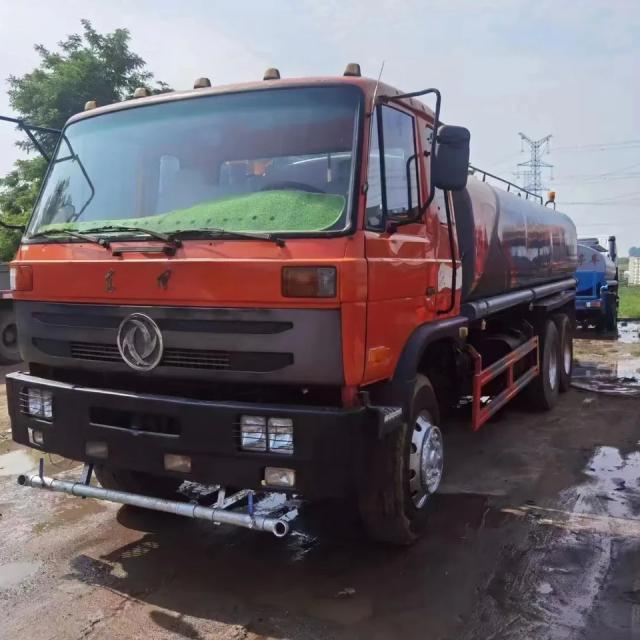dump_truck: (15, 62, 590, 563)
